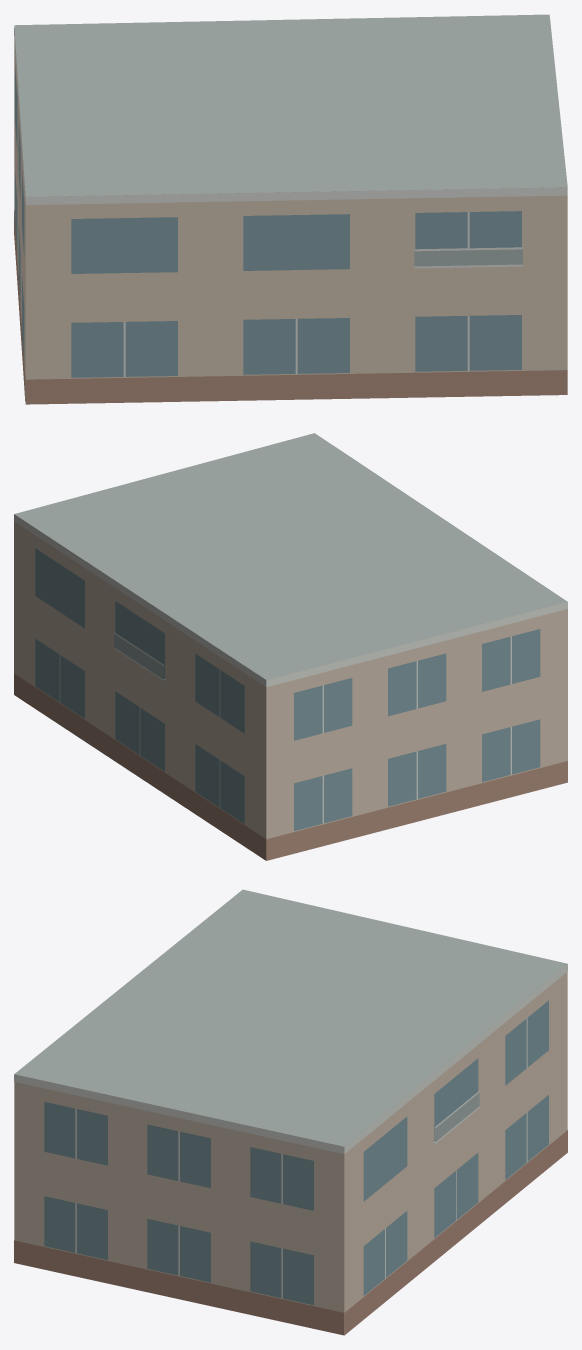
Rendered from survey-upis-32951719.glb.
3 renders of one model, top to bottom at view 1: azimuth 30°, elevation 25°; view 2: azimuth 150°, elevation 25°; view 3: azimuth 270°, elevation 25°, orthographic. The views are drawn at different scales.
Parts seen in each view (by area): view 1: survey-upis-32951719.tmp; view 2: survey-upis-32951719.tmp; view 3: survey-upis-32951719.tmp.
Part boxes in pixels (left/top/right/bottom): survey-upis-32951719.tmp: left=14, top=14, right=567, bottom=404; survey-upis-32951719.tmp: left=14, top=433, right=567, bottom=860; survey-upis-32951719.tmp: left=14, top=889, right=567, bottom=1335.
Bounding box in the file's own units: 17.84 × 6.1 × 16.23.
